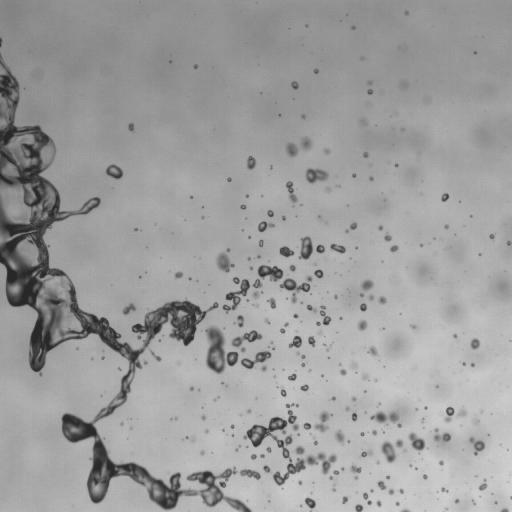droplet: (230, 330, 263, 353), (379, 438, 407, 463), (215, 248, 234, 273), (408, 432, 428, 454), (297, 236, 313, 260), (305, 168, 329, 183), (468, 436, 485, 455), (105, 163, 123, 179), (433, 428, 451, 442), (257, 221, 275, 233), (349, 462, 361, 480), (288, 335, 302, 349), (279, 246, 295, 257), (334, 429, 345, 445), (122, 303, 136, 315), (304, 497, 316, 511), (330, 243, 346, 253), (360, 279, 373, 291), (366, 345, 379, 357), (266, 297, 277, 309), (233, 315, 244, 327), (469, 337, 480, 349), (246, 155, 255, 169), (17, 90, 28, 101), (310, 141, 321, 152), (357, 169, 368, 180), (7, 212, 18, 223), (41, 231, 52, 242), (290, 241, 301, 252), (288, 253, 299, 264), (276, 256, 287, 267), (247, 270, 258, 281), (369, 285, 380, 296), (257, 294, 268, 305), (153, 297, 164, 308), (195, 321, 206, 332), (161, 322, 172, 333), (306, 324, 317, 335), (88, 332, 99, 343), (129, 338, 140, 349), (199, 338, 210, 349), (252, 340, 263, 351), (20, 341, 31, 352), (221, 341, 232, 352), (244, 348, 255, 359), (44, 349, 55, 360), (118, 357, 129, 368), (286, 386, 297, 397), (336, 395, 347, 406), (322, 401, 333, 412), (324, 427, 335, 438), (373, 434, 384, 445), (262, 435, 273, 446), (305, 445, 316, 456), (83, 447, 94, 458), (110, 453, 121, 464), (250, 460, 261, 471), (261, 471, 272, 482), (178, 478, 189, 489), (191, 479, 202, 490), (137, 484, 148, 495), (372, 488, 383, 499), (441, 493, 452, 504), (357, 319, 367, 331), (349, 360, 358, 373), (478, 478, 487, 490), (376, 480, 386, 490), (288, 369, 297, 380), (308, 335, 316, 347), (316, 244, 325, 254), (314, 269, 323, 279), (377, 295, 386, 305), (470, 416, 480, 425), (399, 80, 408, 89), (26, 117, 35, 126), (13, 118, 22, 127), (292, 137, 301, 146), (296, 147, 305, 156), (72, 201, 81, 210), (271, 214, 280, 223), (226, 253, 235, 262), (228, 267, 237, 276), (282, 269, 291, 278), (217, 296, 226, 305), (77, 301, 86, 310), (234, 305, 243, 314), (297, 305, 306, 314), (228, 309, 237, 318), (29, 311, 38, 320), (358, 311, 367, 320), (214, 320, 223, 329), (25, 322, 34, 331), (241, 324, 250, 333), (235, 327, 244, 336), (198, 351, 207, 360), (294, 377, 303, 386), (283, 380, 292, 389), (112, 383, 121, 392), (82, 414, 91, 423), (310, 415, 319, 424), (461, 415, 470, 424), (295, 416, 304, 425), (372, 420, 381, 429), (93, 421, 102, 430), (85, 436, 94, 445), (402, 438, 411, 447), (102, 439, 111, 448), (256, 443, 265, 452), (289, 452, 298, 461), (377, 452, 386, 461), (84, 460, 93, 469), (313, 462, 322, 471), (211, 466, 220, 475), (150, 469, 159, 478), (108, 476, 117, 485), (217, 499, 226, 508), (174, 271, 183, 279), (361, 373, 370, 381), (128, 123, 135, 133), (389, 245, 399, 252), (351, 411, 358, 421), (153, 505, 164, 511), (210, 505, 221, 511), (449, 505, 460, 511), (441, 193, 449, 201), (339, 368, 347, 376), (358, 118, 367, 125), (384, 232, 391, 241), (409, 324, 418, 331), (317, 328, 324, 337), (300, 384, 309, 391), (354, 504, 363, 511), (291, 81, 298, 89), (323, 147, 331, 154), (289, 264, 296, 272), (0, 264, 5, 275), (360, 302, 366, 311), (324, 186, 331, 193), (250, 453, 257, 460), (342, 496, 349, 503), (3, 58, 10, 65), (17, 79, 24, 86), (15, 103, 22, 110), (40, 125, 47, 132), (281, 150, 288, 157), (290, 155, 297, 162), (240, 159, 247, 166), (39, 170, 46, 177), (313, 179, 320, 186), (265, 216, 272, 223), (51, 220, 58, 227), (378, 230, 385, 237), (258, 231, 265, 238), (334, 238, 341, 245), (387, 239, 394, 246), (323, 243, 330, 250), (293, 248, 300, 255), (47, 261, 54, 268), (217, 268, 224, 275), (180, 274, 187, 281), (360, 274, 367, 281), (276, 277, 283, 284), (233, 284, 240, 291), (246, 287, 253, 294), (364, 288, 371, 295), (285, 289, 292, 296), (74, 292, 81, 299), (166, 295, 173, 302), (177, 295, 184, 302), (361, 296, 368, 303), (191, 298, 198, 305), (226, 299, 233, 306), (22, 303, 29, 310), (324, 308, 331, 315), (351, 321, 358, 328), (365, 322, 372, 329), (140, 331, 147, 338), (153, 332, 160, 339), (117, 336, 124, 343), (301, 337, 308, 344), (241, 339, 248, 346), (188, 340, 195, 347), (103, 344, 110, 351), (231, 345, 238, 352), (375, 345, 382, 352), (237, 352, 244, 359), (136, 354, 143, 361), (148, 356, 155, 363), (263, 358, 270, 365), (234, 360, 241, 367), (23, 361, 30, 368), (254, 361, 261, 368), (341, 362, 348, 369), (357, 366, 364, 373), (345, 367, 352, 374), (207, 368, 214, 375), (283, 395, 290, 402), (346, 399, 353, 406), (101, 400, 108, 407), (92, 407, 99, 414), (315, 407, 322, 414), (369, 408, 376, 415), (382, 408, 389, 415), (465, 411, 472, 418), (281, 413, 288, 420), (123, 420, 130, 427), (201, 420, 208, 427), (389, 421, 396, 428), (285, 422, 292, 429), (297, 425, 304, 432), (437, 428, 444, 435), (415, 431, 422, 438), (365, 432, 372, 439), (480, 435, 487, 442), (61, 437, 68, 444), (244, 438, 251, 445), (389, 438, 396, 445), (437, 438, 444, 445), (285, 443, 292, 450), (393, 446, 400, 453), (410, 447, 417, 454), (420, 447, 427, 454), (299, 452, 306, 459), (393, 456, 400, 463), (121, 457, 128, 464), (260, 458, 267, 465), (136, 459, 143, 466), (329, 462, 336, 469), (343, 462, 350, 469), (198, 465, 205, 472), (256, 466, 263, 473), (269, 466, 276, 473), (279, 467, 286, 474), (383, 479, 390, 486), (199, 482, 206, 489), (373, 485, 380, 492), (81, 487, 88, 494), (104, 491, 111, 498), (177, 494, 184, 501), (194, 494, 201, 501), (101, 496, 108, 503), (359, 498, 366, 505), (98, 499, 105, 506), (448, 501, 455, 508), (496, 502, 503, 509), (267, 210, 273, 218), (388, 487, 394, 495), (440, 486, 448, 492), (227, 506, 236, 511), (302, 506, 311, 511), (391, 506, 400, 511), (368, 294, 374, 301), (258, 239, 263, 247), (376, 499, 381, 507), (264, 318, 270, 324), (245, 408, 251, 414), (371, 429, 377, 435), (438, 460, 444, 466), (333, 470, 339, 476), (0, 66, 4, 75), (317, 214, 322, 221), (489, 233, 494, 240), (201, 414, 206, 421), (266, 446, 271, 453), (398, 488, 403, 495), (367, 89, 373, 94), (362, 152, 368, 157), (240, 204, 246, 209), (292, 313, 298, 318), (283, 322, 289, 327), (453, 333, 458, 339), (329, 396, 335, 401), (350, 396, 356, 401), (345, 406, 350, 412), (200, 449, 205, 455), (471, 499, 476, 505), (168, 507, 175, 511), (310, 507, 317, 511), (404, 10, 409, 15), (350, 25, 355, 30), (193, 64, 198, 69), (313, 68, 318, 73), (367, 80, 372, 85), (378, 225, 383, 230), (444, 224, 449, 229), (280, 328, 285, 333), (301, 362, 306, 367), (470, 362, 475, 367), (189, 386, 194, 391), (376, 402, 381, 407), (204, 428, 209, 433), (260, 453, 265, 458), (340, 467, 345, 472), (422, 474, 427, 479), (454, 498, 459, 503), (443, 506, 448, 511), (10, 70, 15, 75), (290, 76, 295, 81), (297, 84, 302, 89), (365, 84, 370, 89), (369, 84, 374, 89), (17, 86, 22, 91), (288, 86, 293, 91), (16, 101, 21, 106), (132, 123, 137, 128), (324, 143, 329, 148), (328, 145, 333, 150), (358, 150, 363, 155), (54, 151, 59, 156), (319, 151, 324, 156), (367, 151, 372, 156), (326, 153, 331, 158), (243, 154, 248, 159), (53, 155, 58, 160), (361, 156, 366, 161), (115, 161, 120, 166), (254, 162, 259, 167), (102, 164, 107, 169), (310, 164, 315, 169), (121, 168, 126, 173), (101, 170, 106, 175), (110, 176, 115, 181), (117, 177, 122, 182), (303, 179, 308, 184), (281, 180, 286, 185), (54, 184, 59, 189), (291, 184, 296, 189), (283, 186, 288, 191), (443, 188, 448, 193), (292, 189, 297, 194), (94, 192, 99, 197), (58, 194, 63, 199), (436, 195, 441, 200), (1, 199, 6, 204), (98, 201, 103, 206), (294, 201, 299, 206), (58, 206, 63, 211), (91, 207, 96, 212), (200, 209, 205, 214), (272, 209, 277, 214), (79, 213, 84, 218), (321, 214, 326, 219), (67, 215, 72, 220), (352, 217, 357, 222), (62, 218, 67, 223), (345, 223, 350, 228), (373, 224, 378, 229), (253, 226, 258, 231), (265, 226, 270, 231), (348, 228, 353, 233), (387, 230, 392, 235), (300, 232, 305, 237), (493, 234, 498, 239), (328, 239, 333, 244), (319, 240, 324, 245), (311, 244, 316, 249), (288, 245, 293, 250), (46, 246, 51, 251), (221, 247, 226, 252), (334, 250, 339, 255), (392, 250, 397, 255), (299, 257, 304, 262), (268, 262, 273, 267), (58, 265, 63, 270), (253, 265, 258, 270), (313, 265, 318, 270), (173, 267, 178, 272), (169, 272, 174, 277), (254, 273, 259, 278), (264, 274, 269, 279), (311, 274, 316, 279), (238, 275, 243, 280), (176, 277, 181, 282), (248, 280, 253, 285), (295, 281, 300, 286), (256, 286, 261, 291), (281, 287, 286, 292), (224, 288, 229, 293), (359, 288, 364, 293), (298, 289, 303, 294), (238, 293, 243, 298), (383, 293, 388, 298), (373, 295, 378, 300), (385, 296, 390, 301), (4, 300, 9, 305), (274, 300, 279, 305), (124, 301, 129, 306), (265, 301, 270, 306), (133, 302, 138, 307), (310, 302, 315, 307), (377, 302, 382, 307), (382, 302, 387, 307), (217, 303, 222, 308), (365, 304, 370, 309), (151, 305, 156, 310), (199, 306, 204, 311), (212, 307, 217, 312), (118, 311, 123, 316), (204, 312, 209, 317), (96, 314, 101, 319), (242, 314, 247, 319), (318, 316, 323, 321), (410, 319, 415, 324), (139, 320, 144, 325), (108, 322, 113, 327), (233, 323, 238, 328), (407, 326, 412, 331), (114, 327, 119, 332), (363, 327, 368, 332), (256, 329, 261, 334), (296, 331, 301, 336), (477, 336, 482, 341), (288, 337, 293, 342), (68, 338, 73, 343), (253, 338, 258, 343), (466, 338, 471, 343), (60, 341, 65, 346), (466, 344, 471, 349), (291, 345, 296, 350), (267, 347, 272, 352), (474, 347, 479, 352), (366, 352, 371, 357), (249, 355, 254, 360), (236, 356, 241, 361), (302, 357, 307, 362), (465, 361, 470, 366), (336, 365, 341, 370), (242, 366, 247, 371), (39, 367, 44, 372), (249, 367, 254, 372), (28, 368, 33, 373), (122, 369, 127, 374), (33, 370, 38, 375), (356, 372, 361, 377), (337, 373, 342, 378), (368, 374, 373, 379), (129, 383, 134, 388), (192, 387, 197, 392), (275, 388, 280, 393), (125, 392, 130, 397), (289, 405, 294, 410), (418, 405, 423, 410), (113, 407, 118, 412), (250, 407, 255, 412), (326, 408, 331, 413), (453, 408, 458, 413), (199, 409, 204, 414), (347, 410, 352, 415), (271, 412, 276, 417), (107, 413, 112, 418), (101, 416, 106, 421), (316, 418, 321, 423), (57, 419, 62, 424), (293, 419, 298, 424), (309, 420, 314, 425), (263, 422, 268, 427), (246, 424, 251, 429), (309, 426, 314, 431), (228, 428, 233, 433), (376, 429, 381, 434), (447, 429, 452, 434), (430, 430, 435, 435), (201, 432, 206, 437), (290, 434, 295, 439), (343, 435, 348, 440), (449, 436, 454, 441), (473, 436, 478, 441), (423, 441, 428, 446), (483, 441, 488, 446), (277, 447, 282, 452), (470, 447, 475, 452), (204, 449, 209, 454), (477, 450, 482, 455), (255, 455, 260, 460), (437, 455, 442, 460), (434, 457, 439, 462), (284, 458, 289, 463), (442, 458, 447, 463), (436, 464, 441, 469), (235, 466, 240, 471), (299, 468, 304, 473), (170, 469, 175, 474), (187, 469, 192, 474), (279, 471, 284, 476), (229, 473, 234, 478), (243, 474, 248, 479), (249, 475, 254, 480), (284, 478, 289, 483), (270, 479, 275, 484), (478, 479, 483, 484), (485, 479, 490, 484), (224, 480, 229, 485), (82, 483, 87, 488), (219, 486, 224, 491), (383, 488, 388, 493), (393, 489, 398, 494), (479, 489, 484, 494), (144, 492, 149, 497), (309, 494, 314, 499), (85, 495, 90, 500), (491, 495, 496, 500), (337, 496, 342, 501), (240, 497, 245, 502), (314, 500, 319, 505), (371, 500, 376, 505), (201, 502, 206, 507), (245, 502, 250, 507), (398, 504, 403, 509), (176, 360, 180, 366), (230, 424, 234, 430), (507, 505, 511, 511), (360, 56, 365, 60), (394, 162, 398, 167), (226, 177, 231, 181), (369, 176, 373, 181), (281, 215, 285, 220), (506, 241, 511, 245), (249, 266, 253, 271), (359, 293, 364, 297), (301, 354, 305, 359), (462, 361, 466, 366), (117, 366, 121, 371), (479, 409, 483, 414), (239, 412, 243, 417), (298, 480, 302, 485), (395, 501, 399, 506), (421, 417, 424, 423), (301, 114, 305, 118), (352, 173, 356, 177), (189, 195, 193, 199), (245, 194, 249, 198), (419, 243, 423, 247), (257, 254, 261, 258), (435, 384, 439, 388), (360, 432, 364, 436), (376, 460, 380, 464), (386, 475, 390, 479), (400, 128, 405, 131), (335, 184, 340, 187), (334, 294, 337, 299), (220, 428, 225, 431), (508, 446, 511, 451), (351, 508, 356, 511), (473, 51, 477, 54), (299, 203, 303, 206), (201, 215, 204, 219), (469, 214, 473, 217), (312, 262, 316, 265), (188, 277, 191, 281), (294, 329, 298, 332), (158, 338, 161, 342), (101, 348, 104, 352), (296, 351, 299, 355), (101, 356, 105, 359), (338, 362, 341, 366), (308, 368, 311, 372), (320, 374, 324, 377), (374, 378, 377, 382), (424, 406, 427, 410), (120, 422, 123, 426), (231, 433, 234, 437), (346, 440, 350, 443), (414, 467, 418, 470), (370, 488, 373, 492), (494, 500, 497, 504), (305, 24, 308, 27), (278, 113, 281, 116), (260, 194, 263, 197), (458, 200, 461, 203), (346, 204, 349, 207), (241, 228, 244, 231), (248, 235, 251, 238), (355, 246, 358, 249), (478, 252, 481, 255), (138, 275, 141, 278), (246, 298, 249, 301), (300, 301, 303, 304), (339, 316, 342, 319), (161, 334, 164, 337), (327, 356, 330, 359), (273, 375, 276, 378), (197, 388, 200, 391), (363, 390, 366, 393), (415, 408, 418, 411), (422, 426, 425, 429), (297, 433, 300, 436), (245, 445, 248, 448), (409, 464, 412, 467), (310, 491, 313, 494), (490, 492, 493, 495), (299, 504, 302, 507), (405, 7, 408, 10), (401, 11, 404, 14), (304, 20, 307, 23), (351, 22, 354, 25), (301, 24, 304, 27), (307, 24, 310, 27), (354, 27, 357, 30), (351, 29, 354, 32), (0, 41, 3, 44), (474, 48, 477, 51), (0, 53, 3, 56), (472, 53, 475, 56), (168, 56, 171, 59), (165, 60, 168, 63), (171, 60, 174, 63), (190, 65, 193, 68), (196, 66, 199, 69), (311, 71, 314, 74), (316, 72, 319, 75), (364, 91, 367, 94), (369, 93, 372, 96), (277, 110, 280, 113), (280, 113, 283, 116), (275, 114, 278, 117), (304, 116, 307, 119), (300, 117, 303, 120), (125, 124, 128, 127), (129, 130, 132, 133), (363, 148, 366, 151), (251, 154, 254, 157), (395, 160, 398, 163), (391, 162, 394, 165), (267, 164, 270, 167), (272, 165, 275, 168), (394, 166, 397, 169), (271, 168, 274, 171), (352, 170, 355, 173), (348, 173, 351, 176), (355, 174, 358, 177), (371, 174, 374, 177), (224, 175, 227, 178), (350, 176, 353, 179), (289, 178, 292, 181), (366, 178, 369, 181), (230, 179, 233, 182), (369, 180, 372, 183), (227, 181, 230, 184), (336, 181, 339, 184), (335, 186, 338, 189), (261, 191, 264, 194), (447, 192, 450, 195), (242, 193, 245, 196), (257, 193, 260, 196), (92, 194, 95, 197), (192, 194, 195, 197), (248, 194, 251, 197), (261, 196, 264, 199), (84, 198, 87, 201), (189, 198, 192, 201), (446, 198, 449, 201), (460, 198, 463, 201), (240, 201, 243, 204), (457, 202, 460, 205), (198, 204, 201, 207), (203, 204, 206, 207), (237, 204, 240, 207), (245, 204, 248, 207), (300, 205, 303, 208), (240, 208, 243, 211), (468, 211, 471, 214), (281, 212, 284, 215), (319, 212, 322, 215), (471, 212, 474, 215), (314, 214, 317, 217), (197, 215, 200, 218), (284, 215, 287, 218), (203, 216, 206, 219), (467, 216, 470, 219), (284, 218, 287, 221), (258, 219, 261, 222), (280, 219, 283, 222), (441, 223, 444, 226), (133, 224, 136, 227), (240, 225, 243, 228), (137, 226, 140, 229), (354, 227, 357, 230), (447, 227, 450, 230), (443, 228, 446, 231), (136, 229, 139, 232), (491, 231, 494, 234), (344, 232, 347, 235), (432, 233, 435, 236), (244, 235, 247, 238), (486, 235, 489, 238), (435, 236, 438, 239), (247, 238, 250, 241), (489, 238, 492, 241), (432, 239, 435, 242), (420, 240, 423, 243), (255, 242, 258, 245), (262, 243, 265, 246), (354, 243, 357, 246), (504, 243, 507, 246), (226, 244, 229, 247), (279, 244, 282, 247), (422, 244, 425, 247), (417, 245, 420, 248), (258, 246, 261, 249), (355, 248, 358, 251), (276, 249, 279, 252), (478, 249, 481, 252), (475, 251, 478, 254), (245, 254, 248, 257), (477, 255, 480, 258), (351, 256, 354, 259), (244, 258, 247, 261), (383, 259, 386, 262), (294, 267, 297, 270), (137, 272, 140, 275), (322, 272, 325, 275), (335, 272, 338, 275), (235, 274, 238, 277), (68, 275, 71, 278), (135, 275, 138, 278), (196, 276, 199, 279), (320, 276, 323, 279), (191, 277, 194, 280), (309, 285, 312, 288), (308, 289, 311, 292), (336, 294, 339, 297), (266, 296, 269, 299), (331, 296, 334, 299), (306, 301, 309, 304), (322, 302, 325, 305), (209, 303, 212, 306), (251, 305, 254, 308), (272, 307, 275, 310), (357, 307, 360, 310), (305, 308, 308, 311), (222, 309, 225, 312), (361, 310, 364, 313), (296, 312, 299, 315), (290, 313, 293, 316), (399, 314, 402, 317), (341, 315, 344, 318), (293, 317, 296, 320), (267, 318, 270, 321), (339, 319, 342, 322), (328, 320, 331, 323), (266, 323, 269, 326), (287, 323, 290, 326), (383, 324, 386, 327), (281, 325, 284, 328), (316, 325, 319, 328), (379, 325, 382, 328), (128, 327, 131, 330), (381, 329, 384, 332), (277, 330, 280, 333), (451, 331, 454, 334), (281, 332, 284, 335), (308, 333, 311, 336), (456, 333, 459, 336), (313, 336, 316, 339), (452, 337, 455, 340), (323, 340, 326, 343), (285, 343, 288, 346), (331, 343, 334, 346), (269, 344, 272, 347), (323, 345, 326, 348), (274, 346, 277, 349), (328, 348, 331, 351), (154, 352, 157, 355), (298, 353, 301, 356), (304, 353, 307, 356), (327, 353, 330, 356), (87, 356, 90, 359), (97, 356, 100, 359), (324, 356, 327, 359), (103, 357, 106, 360), (328, 358, 331, 361), (100, 359, 103, 362), (472, 360, 475, 363), (335, 361, 338, 364), (459, 362, 462, 365), (304, 363, 307, 366), (474, 363, 477, 366), (298, 364, 301, 367), (382, 367, 385, 370), (352, 368, 355, 371), (355, 368, 358, 371), (272, 370, 275, 373), (309, 370, 312, 373), (288, 372, 291, 375), (317, 373, 320, 376), (354, 373, 357, 376), (284, 376, 287, 379), (319, 376, 322, 379), (322, 376, 325, 379), (376, 376, 379, 379), (274, 377, 277, 380), (327, 378, 330, 381), (290, 379, 293, 382), (364, 379, 367, 382), (370, 379, 373, 382), (223, 380, 226, 383), (375, 381, 378, 384), (306, 382, 309, 385), (433, 382, 436, 385), (273, 383, 276, 386), (438, 383, 441, 386), (221, 384, 224, 387), (186, 386, 189, 389), (199, 387, 202, 390), (361, 387, 364, 390), (434, 387, 437, 390), (306, 388, 309, 391), (300, 389, 303, 392), (366, 389, 369, 392), (285, 390, 288, 393), (363, 392, 366, 395), (278, 393, 281, 396), (332, 393, 335, 396), (213, 394, 216, 397), (328, 395, 331, 398), (335, 396, 338, 399), (355, 396, 358, 399), (216, 398, 219, 401), (329, 399, 332, 402), (333, 399, 336, 402), (288, 401, 291, 404), (298, 403, 301, 406), (414, 404, 417, 407), (450, 404, 453, 407), (203, 405, 206, 408), (342, 405, 345, 408), (444, 405, 447, 408), (245, 406, 248, 409), (426, 407, 429, 410), (412, 408, 415, 411), (422, 408, 425, 411), (355, 411, 358, 414), (204, 413, 207, 416), (332, 413, 335, 416), (171, 415, 174, 418), (423, 415, 426, 418), (177, 416, 180, 419), (418, 416, 421, 419), (367, 417, 370, 420), (171, 418, 174, 421), (199, 418, 202, 421), (204, 418, 207, 421), (423, 418, 426, 421), (479, 419, 482, 422), (307, 420, 310, 423), (231, 421, 234, 424), (227, 423, 230, 426), (401, 423, 404, 426), (420, 423, 423, 426), (233, 424, 236, 427), (220, 425, 223, 428), (432, 425, 435, 428), (207, 427, 210, 430), (397, 427, 400, 430), (218, 429, 221, 432), (362, 429, 365, 432), (368, 430, 371, 433), (487, 430, 490, 433), (222, 431, 225, 434), (357, 431, 360, 434), (363, 433, 366, 436), (187, 434, 190, 437), (228, 434, 231, 437), (233, 434, 236, 437), (371, 434, 374, 437), (182, 435, 185, 438), (466, 436, 469, 439), (184, 438, 187, 441), (311, 439, 314, 442), (349, 440, 352, 443), (235, 444, 238, 447), (237, 447, 240, 450), (362, 448, 365, 451), (503, 448, 506, 451), (359, 449, 362, 452), (233, 450, 236, 453), (196, 451, 199, 454), (471, 453, 474, 456), (247, 455, 250, 458), (364, 455, 367, 458), (360, 456, 363, 459), (267, 464, 270, 467), (356, 464, 359, 467), (441, 464, 444, 467), (406, 465, 409, 468), (411, 465, 414, 468), (360, 467, 363, 470), (417, 467, 420, 470), (337, 468, 340, 471), (413, 469, 416, 472), (421, 471, 424, 474), (474, 471, 477, 474), (385, 472, 388, 475), (425, 472, 428, 475), (389, 476, 392, 479), (420, 476, 423, 479), (426, 476, 429, 479), (258, 477, 261, 480), (329, 479, 332, 482), (301, 481, 304, 484), (295, 482, 298, 485), (309, 482, 312, 485), (334, 485, 337, 488), (399, 485, 402, 488), (402, 488, 405, 491), (329, 489, 332, 492), (438, 489, 441, 492), (443, 491, 446, 494), (343, 493, 346, 496), (506, 495, 509, 498), (266, 496, 269, 499), (452, 497, 455, 500), (458, 498, 461, 501), (397, 499, 400, 502), (473, 499, 476, 502), (491, 499, 494, 502), (496, 499, 499, 502), (265, 501, 268, 504), (344, 501, 347, 504), (380, 501, 383, 504), (392, 502, 395, 505), (455, 502, 458, 505), (493, 503, 496, 506), (441, 507, 444, 510), (270, 165, 272, 169), (474, 475, 478, 477), (169, 60, 171, 63), (201, 206, 203, 209), (244, 217, 247, 219), (432, 237, 435, 239), (381, 260, 383, 263), (76, 347, 78, 350), (91, 357, 93, 360), (382, 365, 385, 367), (255, 396, 257, 399), (130, 426, 132, 429), (487, 433, 489, 436), (499, 443, 501, 446), (461, 448, 464, 450), (280, 487, 283, 489), (246, 499, 248, 502), (267, 500, 270, 502), (509, 239, 511, 242), (509, 243, 511, 246), (509, 336, 511, 339), (509, 341, 511, 344), (509, 480, 511, 483), (509, 492, 511, 495), (360, 509, 363, 511), (445, 509, 448, 511), (260, 92, 262, 94), (295, 215, 297, 217), (154, 223, 156, 225), (349, 257, 351, 259), (145, 271, 147, 273), (196, 280, 198, 282), (326, 291, 328, 293), (309, 293, 311, 295), (285, 297, 287, 299), (399, 312, 401, 314), (272, 368, 274, 370), (282, 368, 284, 370), (100, 394, 102, 396), (201, 406, 203, 408), (364, 411, 366, 413), (211, 451, 213, 453), (312, 481, 314, 483), (436, 490, 438, 492), (479, 495, 481, 497), (300, 321, 302, 322), (336, 331, 337, 333), (509, 340, 511, 341), (424, 510, 426, 511), (507, 481, 508, 482)
ligament: (222, 264, 283, 313), (370, 410, 402, 428), (285, 136, 312, 157), (285, 181, 298, 207), (358, 448, 373, 458), (345, 221, 357, 233), (362, 492, 372, 505), (276, 385, 286, 397), (309, 432, 318, 445), (181, 435, 196, 442), (212, 395, 220, 402), (235, 444, 241, 452), (250, 303, 259, 308), (220, 381, 227, 387), (399, 508, 411, 511), (133, 227, 141, 231), (247, 256, 255, 260), (170, 416, 178, 420), (0, 37, 2, 47), (381, 429, 385, 434), (379, 327, 385, 330), (507, 448, 508, 451), (510, 496, 511, 499)
